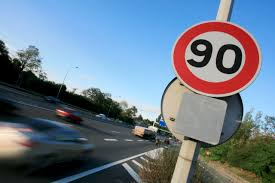Speed_limit_90km: (172, 21, 261, 98)
